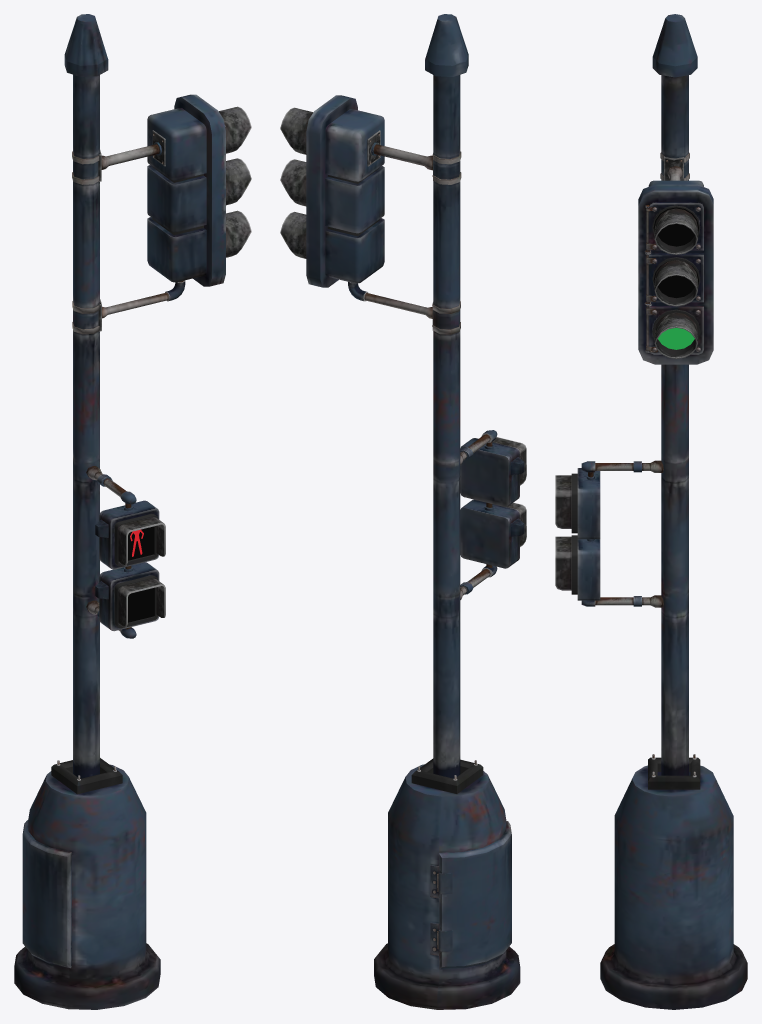
Rendered from tlight.glb.
3 views of the same model, side by side, from view 1: azimuth 30°, elevation 25°; view 2: azimuth 150°, elevation 25°; view 3: azimuth 270°, elevation 25° (orthographic).
Parts seen in each view (by area): view 1: TL_Down, Trafic_Light_Up, Black_panel_Up.001, Black_Pannel_People_Stop; view 2: TL_Down, Trafic_Light_Up; view 3: TL_Down, Trafic_Light_Up, Black_Pannel_Up, Bleck_Pannel_Middle.
Boxes of the visible parts, left/top/right/bottom form: TL_Down: left=14, top=14, right=165, bottom=1009; Trafic_Light_Up: left=72, top=94, right=251, bottom=334; Black_panel_Up.001: left=128, top=587, right=154, bottom=622; Black_Pannel_People_Stop: left=128, top=526, right=153, bottom=560; TL_Down: left=374, top=14, right=526, bottom=1009; Trafic_Light_Up: left=280, top=95, right=461, bottom=334; TL_Down: left=555, top=14, right=747, bottom=1009; Trafic_Light_Up: left=638, top=152, right=713, bottom=364; Black_Pannel_Up: left=653, top=207, right=698, bottom=246; Bleck_Pannel_Middle: left=653, top=261, right=698, bottom=298.
Bounding box in the file's own units: 2.4 × 10.01 × 1.82.
6 materials, 6 textured.
